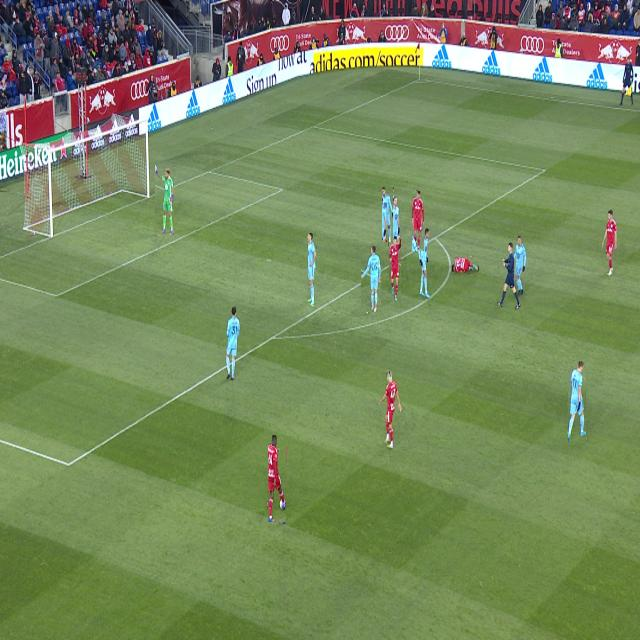goalkeeper: (155, 166, 174, 235)
player: (379, 370, 401, 448), (268, 435, 286, 522), (568, 362, 586, 443), (361, 247, 381, 312), (226, 307, 240, 379), (602, 210, 617, 275), (389, 237, 401, 301), (419, 229, 430, 297), (514, 236, 526, 295), (412, 192, 424, 251), (308, 234, 316, 305), (383, 188, 393, 242), (389, 197, 400, 245), (452, 257, 478, 273)
referee: (497, 243, 520, 309)
